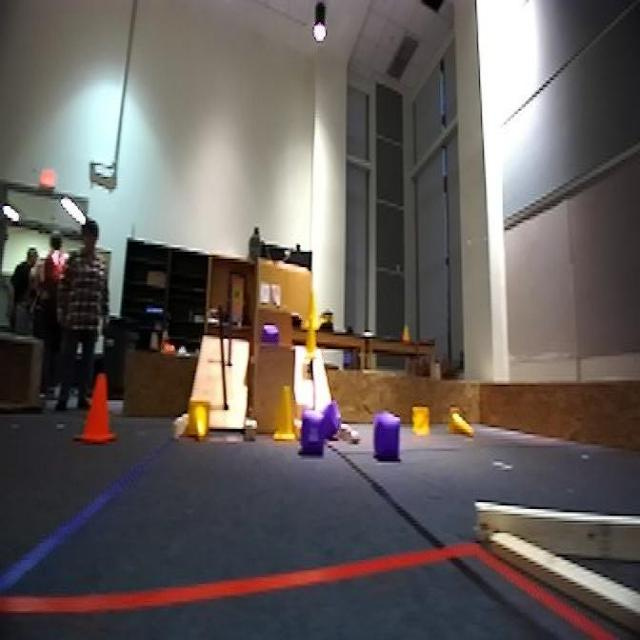frc_cone: (274, 382, 307, 449), (183, 400, 212, 444), (302, 317, 324, 364), (408, 402, 432, 437), (445, 408, 473, 436), (308, 282, 322, 334)
frc_cube: (294, 410, 324, 451), (371, 419, 401, 458), (322, 400, 337, 436), (259, 329, 279, 347)
